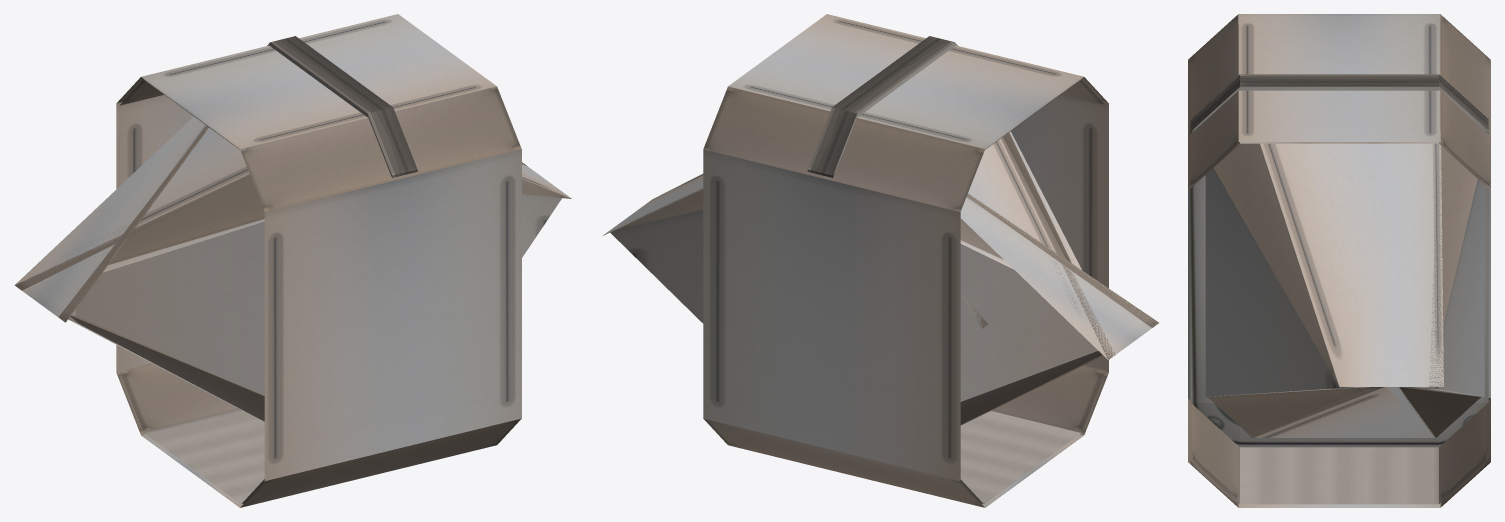
The model's file is corridor.fbx.
3 renders of one model, left to right at view 1: azimuth 30°, elevation 25°; view 2: azimuth 150°, elevation 25°; view 3: azimuth 270°, elevation 25°, orthographic. The views are drawn at different scales.
Parts seen in each view (by area): view 1: corridorSimple, corridor, bulkheadCap; view 2: corridorSimple, corridor, bulkheadCap; view 3: corridor, corridorSimple, bulkheadCap.
Part boxes in pixels (<box>): corridorSimple: <box>116,14,521,507</box>; corridor: <box>14,116,571,421</box>; bulkheadCap: <box>267,36,417,177</box>; corridorSimple: <box>703,14,1108,507</box>; corridor: <box>603,131,1159,425</box>; bulkheadCap: <box>807,36,957,177</box>; corridor: <box>1188,143,1490,437</box>; corridorSimple: <box>1188,14,1490,507</box>; bulkheadCap: <box>1190,74,1488,447</box>.
Size of the model in its own units: 4 by 2.73 by 2.03.
